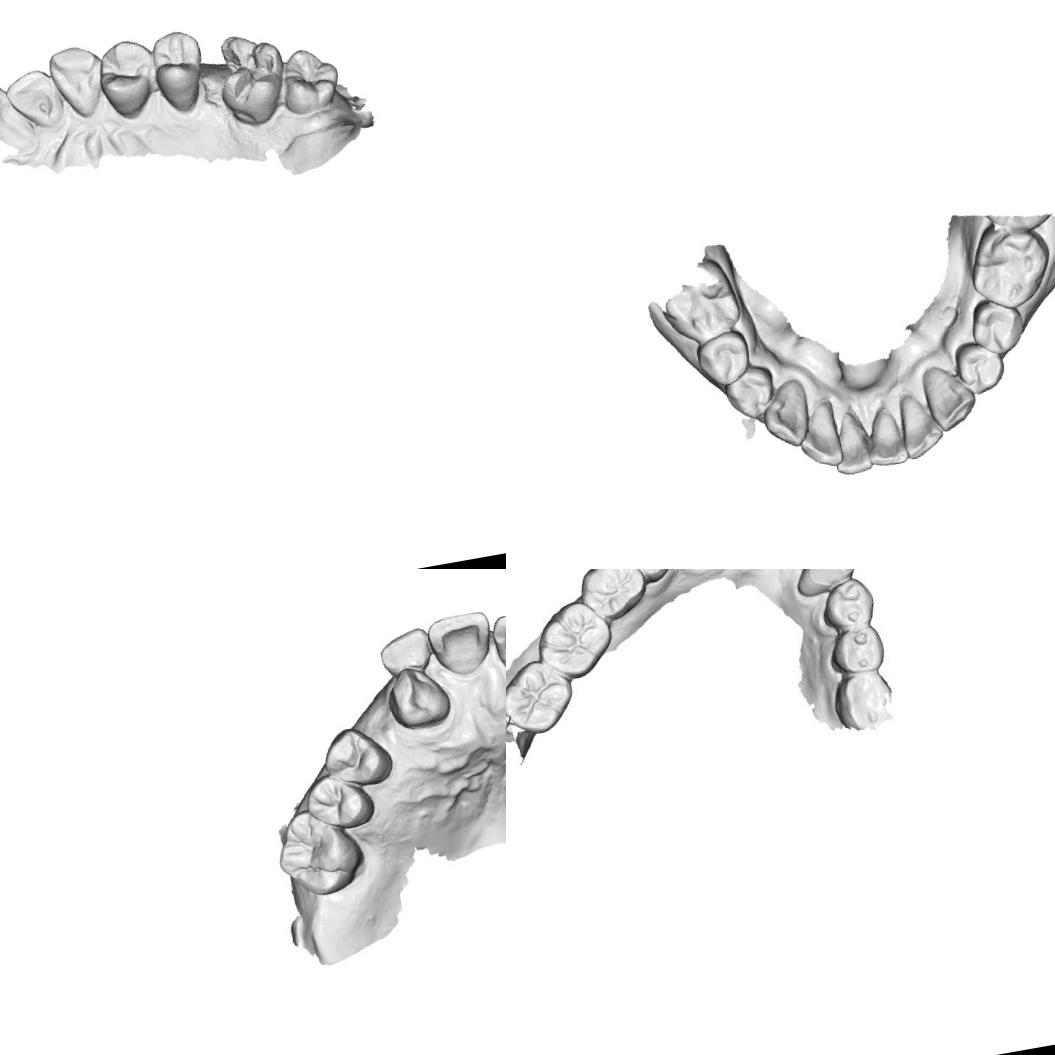canine: (44, 37, 115, 128), (379, 659, 457, 735), (919, 358, 981, 434), (754, 376, 812, 454), (797, 569, 859, 596)
incisor: (423, 604, 500, 681), (1, 64, 70, 144), (790, 399, 850, 472), (894, 386, 949, 462), (373, 620, 436, 684), (824, 406, 878, 478), (860, 402, 914, 470), (0, 80, 39, 173), (487, 602, 506, 686)
molar: (269, 800, 374, 904), (961, 216, 1055, 317), (654, 255, 747, 352), (209, 25, 290, 130), (273, 42, 348, 124), (536, 601, 610, 672), (506, 660, 573, 734), (831, 666, 904, 726)
premolar: (92, 34, 162, 127), (316, 718, 396, 794), (147, 27, 209, 113), (300, 766, 378, 834), (961, 292, 1030, 361), (690, 326, 758, 388), (720, 362, 786, 424), (947, 334, 1008, 398), (817, 576, 879, 636), (825, 625, 890, 677), (579, 569, 646, 619), (628, 569, 684, 584)
